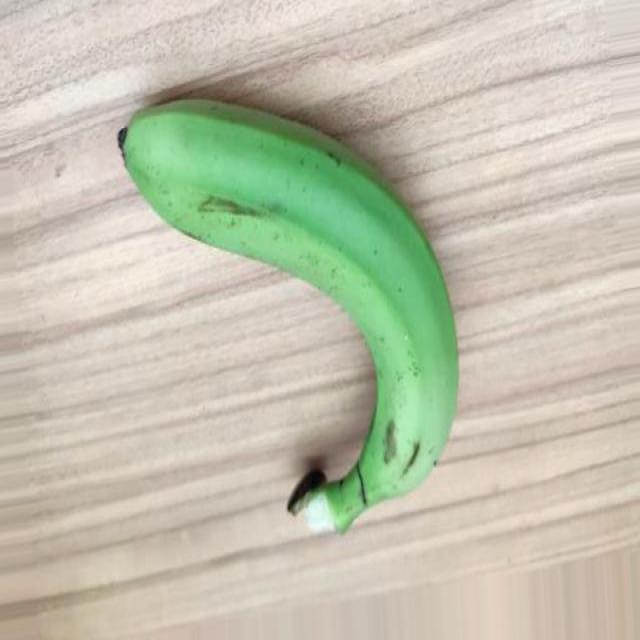Unripe: (117, 95, 459, 539)
